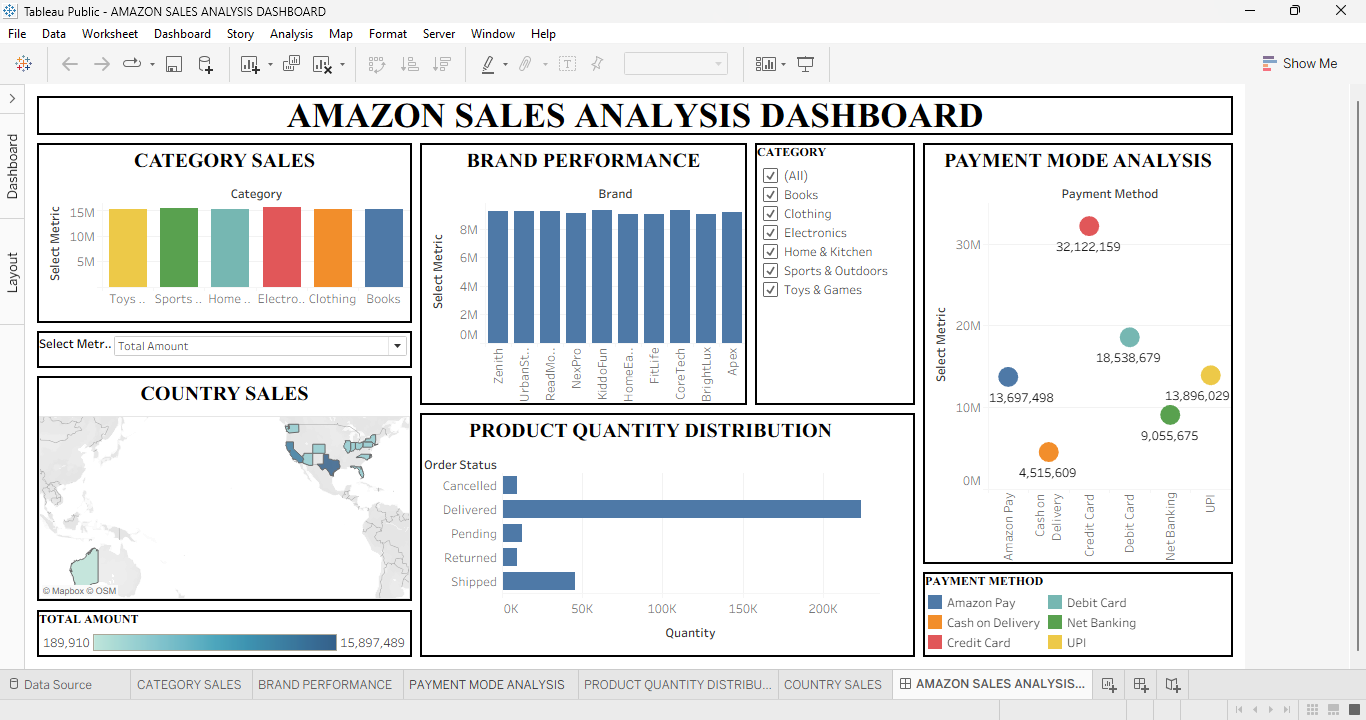

Layout of this report page (visuals, bound fields, positions):
{"tool":"tableau","page":{"name":"AMAZON SALES ANALYSIS DASHBOARD","canvas":[1000,1000],"units":"permille","ordinal":0},"visuals":[{"type":"title","box":[6.6,13.7,986.9,80.4]},{"type":"worksheet","title":"CATEGORY SALES","mark":"Bar","rows":["Calculation_0224357272817664"],"cols":["Category"],"box":[6.6,94,314.2,322]},{"type":"worksheet","title":"BRAND PERFORMANCE","mark":"Bar","rows":["Calculation_0224357272817664"],"cols":["Brand"],"box":[320.8,94,274.4,461.4]},{"type":"filter","title":"BRAND PERFORMANCE","param":"[federated.1t0iad80cxqhdl19wsaow16t99l7].[none:Category:nk]","box":[595.1,94,137.9,461.4]},{"type":"worksheet","title":"PAYMENT MODE ANALYSIS","mark":"Pie","rows":["Calculation_0224357272817664"],"cols":["PaymentMethod"],"box":[733,94,260.4,733.2]},{"type":"parameter","param":"[Parameters].[Parameter 1]","box":[6.6,416,314.2,77]},{"type":"worksheet","title":"COUNTRY SALES","mark":"Automatic","box":[6.6,493,314.2,399]},{"type":"worksheet","title":"PRODUCT QUANTITY DISTRIBUTION","mark":"Automatic","rows":["OrderStatus"],"cols":["Quantity"],"box":[320.8,555.5,412.3,430.9]},{"type":"legend","title":"PAYMENT MODE ANALYSIS","param":"[federated.1t0iad80cxqhdl19wsaow16t99l7].[none:PaymentMethod:nk]","box":[733,827.2,260.4,159.1]},{"type":"legend","title":"COUNTRY SALES","param":"[federated.1t0iad80cxqhdl19wsaow16t99l7].[sum:TotalAmount:qk]","box":[6.6,892,314.2,94.3]}]}

Visuals, with their boxes on the dashboard's canvas, which has no fixed pixel size, in thousandths of its width and height (x1, y1, x2, y2). These are canvas units, not pixel positions in the 1366x720 screenshot, which may show the page scaled, cropped or inside an application window:
title: 7/14/994/94
"CATEGORY SALES" worksheet (Bar marks): 7/94/321/416
"BRAND PERFORMANCE" worksheet (Bar marks): 321/94/595/555
"BRAND PERFORMANCE" filter: 595/94/733/555
"PAYMENT MODE ANALYSIS" worksheet (Pie marks): 733/94/993/827
parameter: 7/416/321/493
"COUNTRY SALES" worksheet: 7/493/321/892
"PRODUCT QUANTITY DISTRIBUTION" worksheet: 321/556/733/986
"PAYMENT MODE ANALYSIS" legend: 733/827/993/986
"COUNTRY SALES" legend: 7/892/321/986
